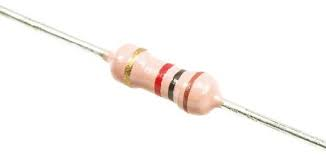resistor: (82, 40, 237, 117)
